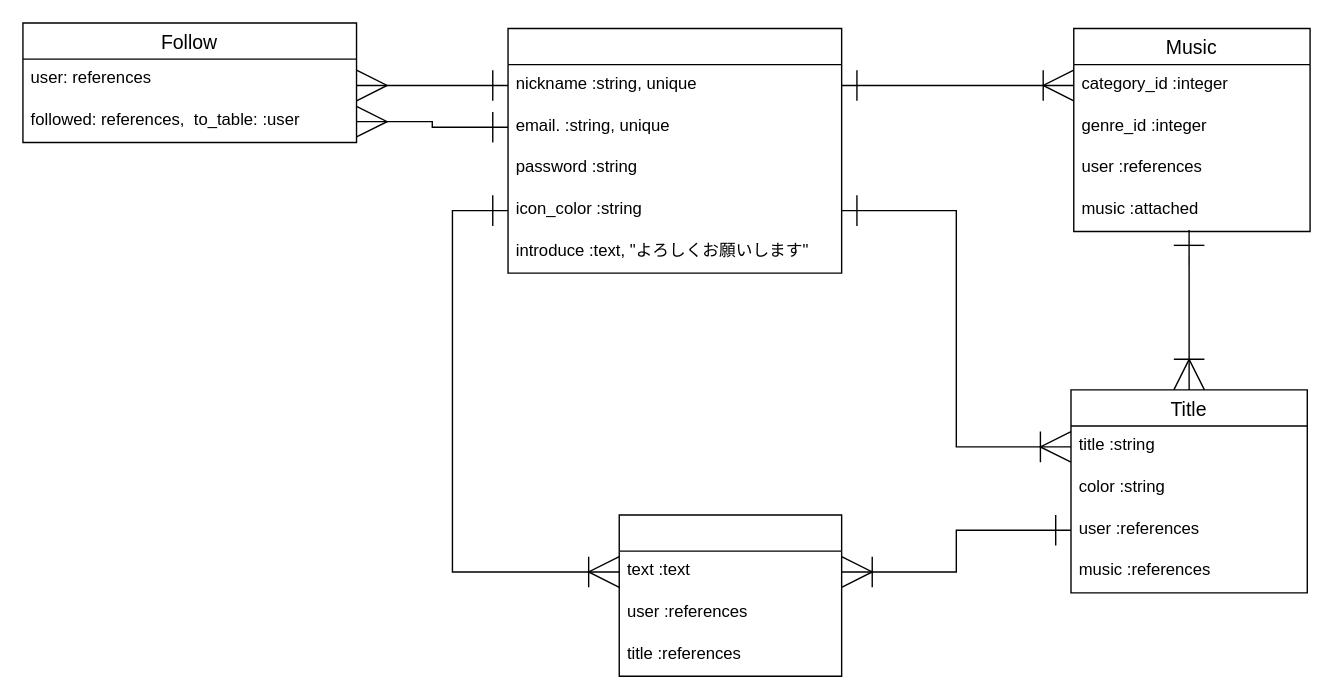
This 1333x699 diagram has some shape labels left out. The box of each missing label's shape, as (x1, y1, x2, y2) in pixels:
Comment: (618, 514, 842, 676)
User: (507, 27, 842, 273)
